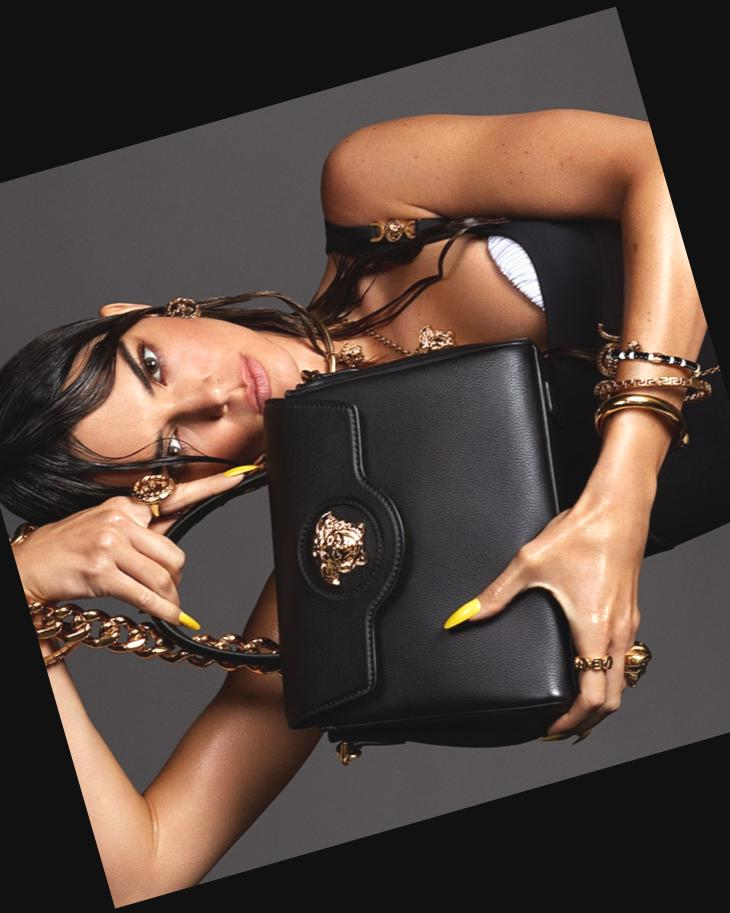VERSACE: (279, 486, 398, 610)
